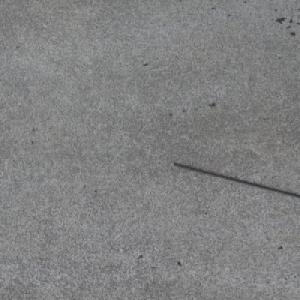LuggagePart: (170, 162, 300, 199)
